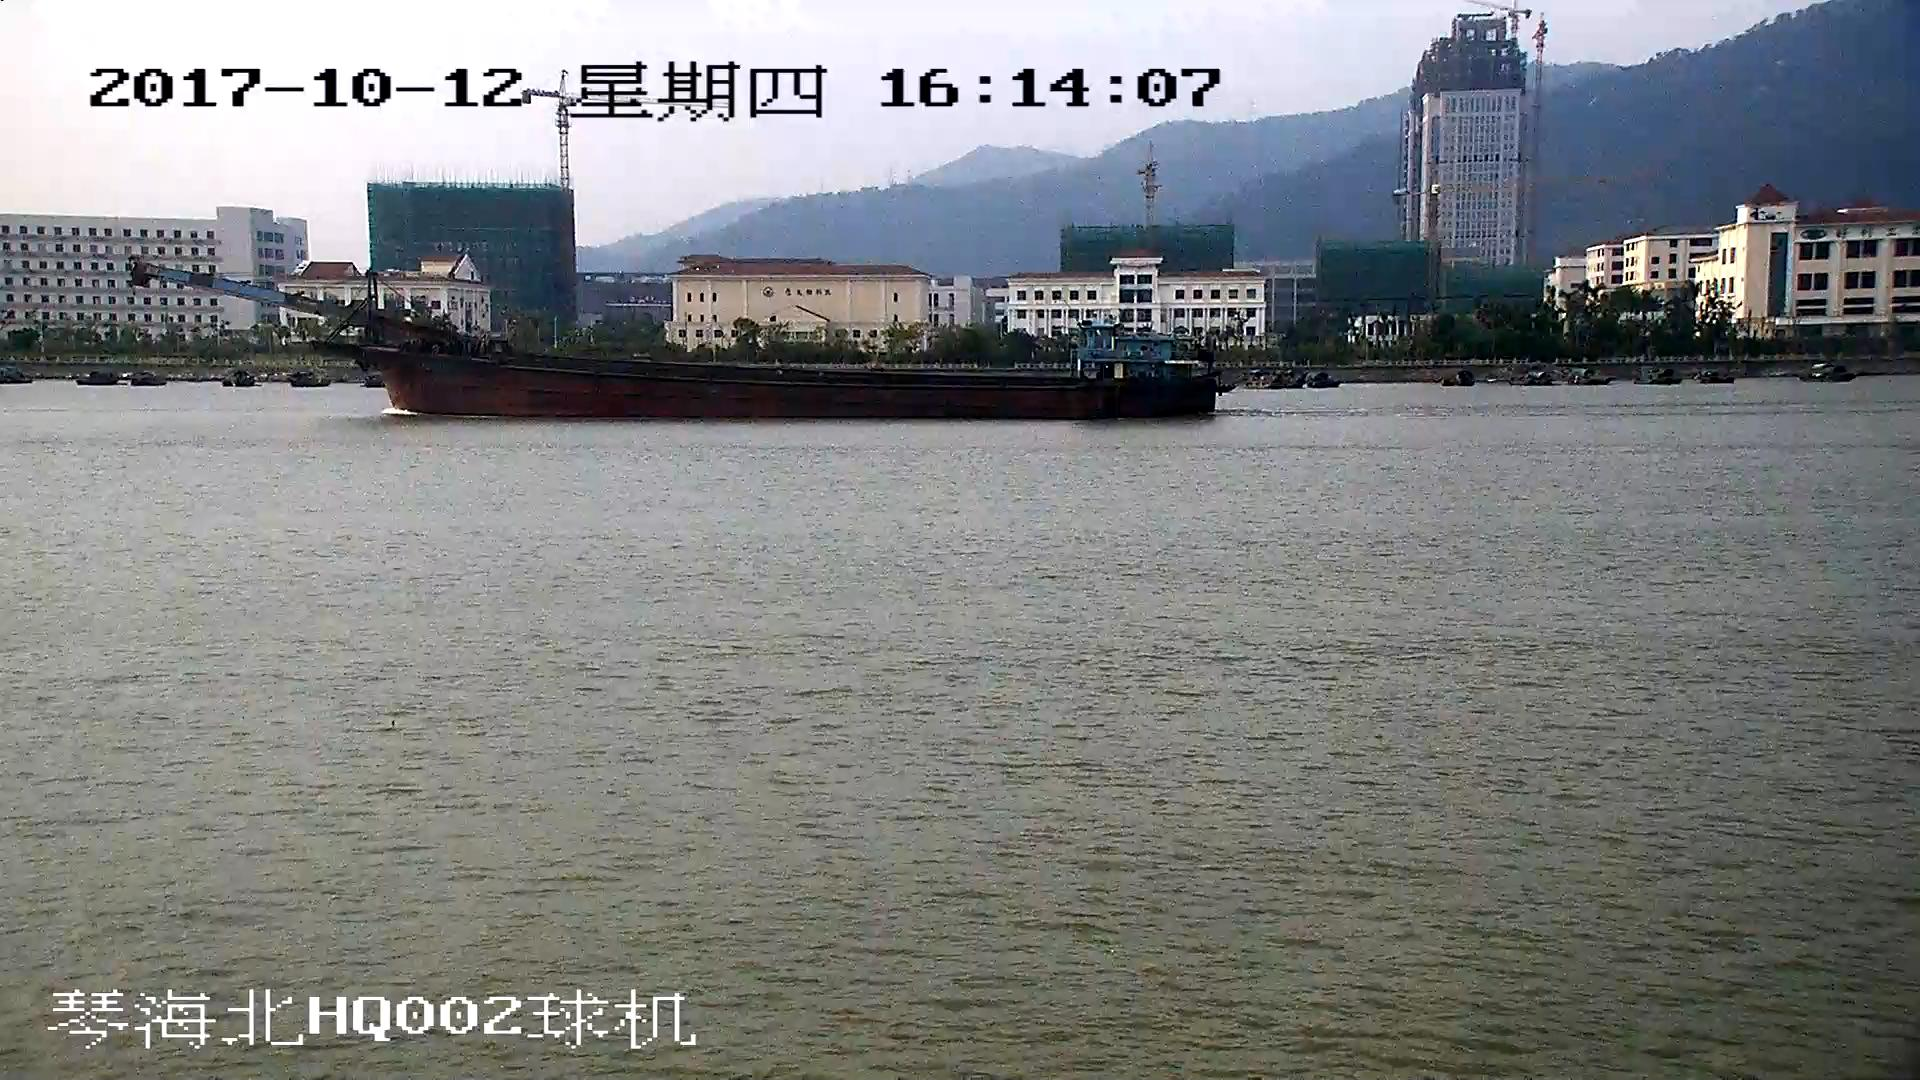bulk cargo carrier: (135, 264, 1226, 422)
